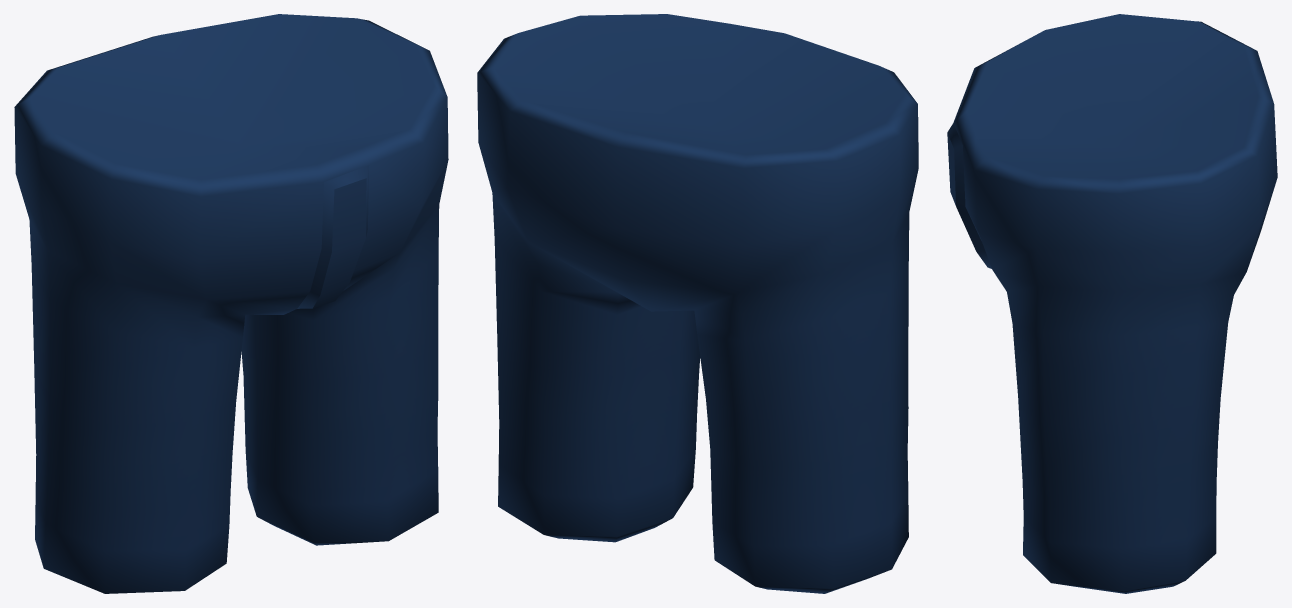
File: Bottom_15.fbx
3 renders of one model, left to right at view 1: azimuth 30°, elevation 25°; view 2: azimuth 150°, elevation 25°; view 3: azimuth 270°, elevation 25°, orthographic. The views are drawn at different scales.
Parts seen in each view (by area): view 1: Bottom_15; view 2: Bottom_15; view 3: Bottom_15.
Boxes of the visible parts, x1=… form: Bottom_15: x1=14, y1=14, x2=448, y2=593; Bottom_15: x1=477, y1=14, x2=918, y2=593; Bottom_15: x1=947, y1=14, x2=1277, y2=593.
Bounding box in the file's own units: 38.53 × 42.7 × 30.23.
